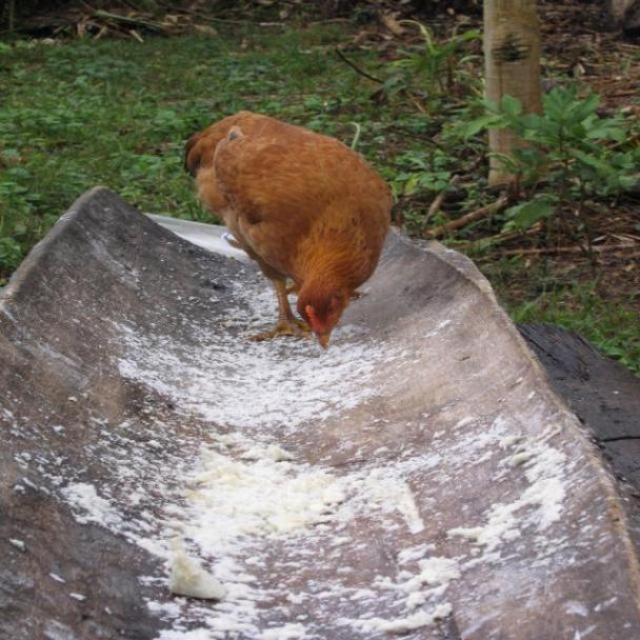Chicken: (174, 103, 405, 352)
